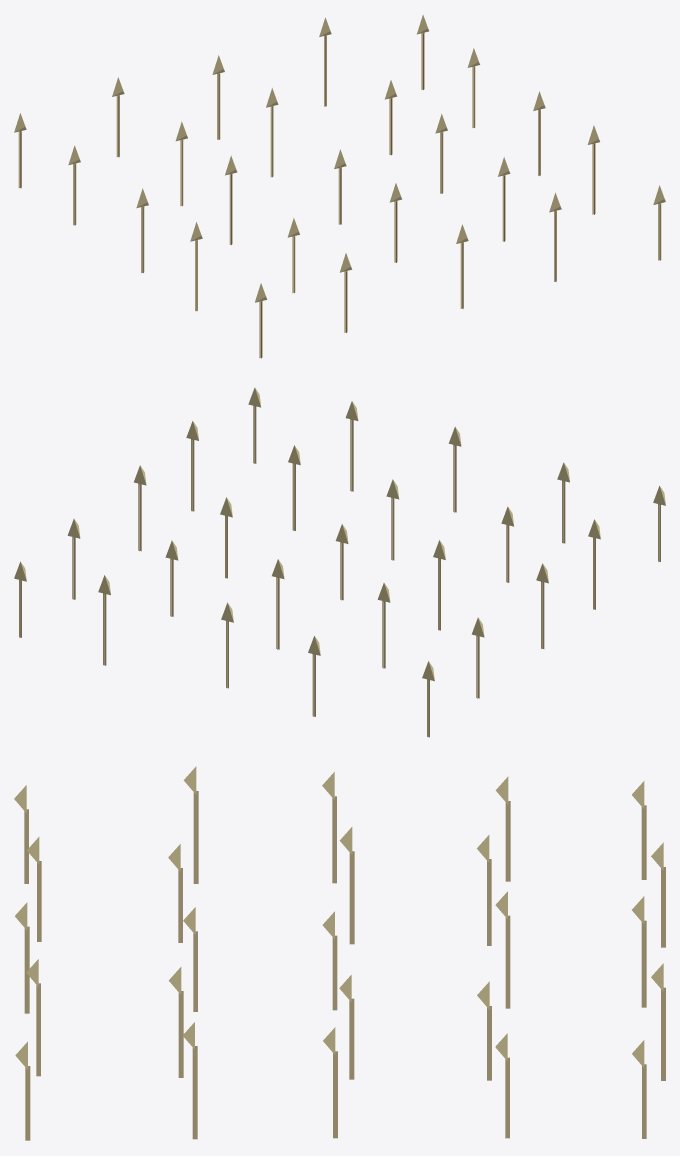
Rendered from wheat-field-patch.glb.
3 views of the same model, one above another, from view 1: azimuth 30°, elevation 25°; view 2: azimuth 150°, elevation 25°; view 3: azimuth 270°, elevation 25° (orthographic). The views are drawn at different scales.
Parts seen in each view (by area): view 1: wheat-field-patch; view 2: wheat-field-patch; view 3: wheat-field-patch.
Part boxes in pixels (left/top/right/bottom): wheat-field-patch: left=14, top=15, right=665, bottom=358; wheat-field-patch: left=14, top=387, right=665, bottom=737; wheat-field-patch: left=14, top=766, right=665, bottom=1140.
Bounding box in the file's own units: 6.56 × 1.34 × 6.72.
